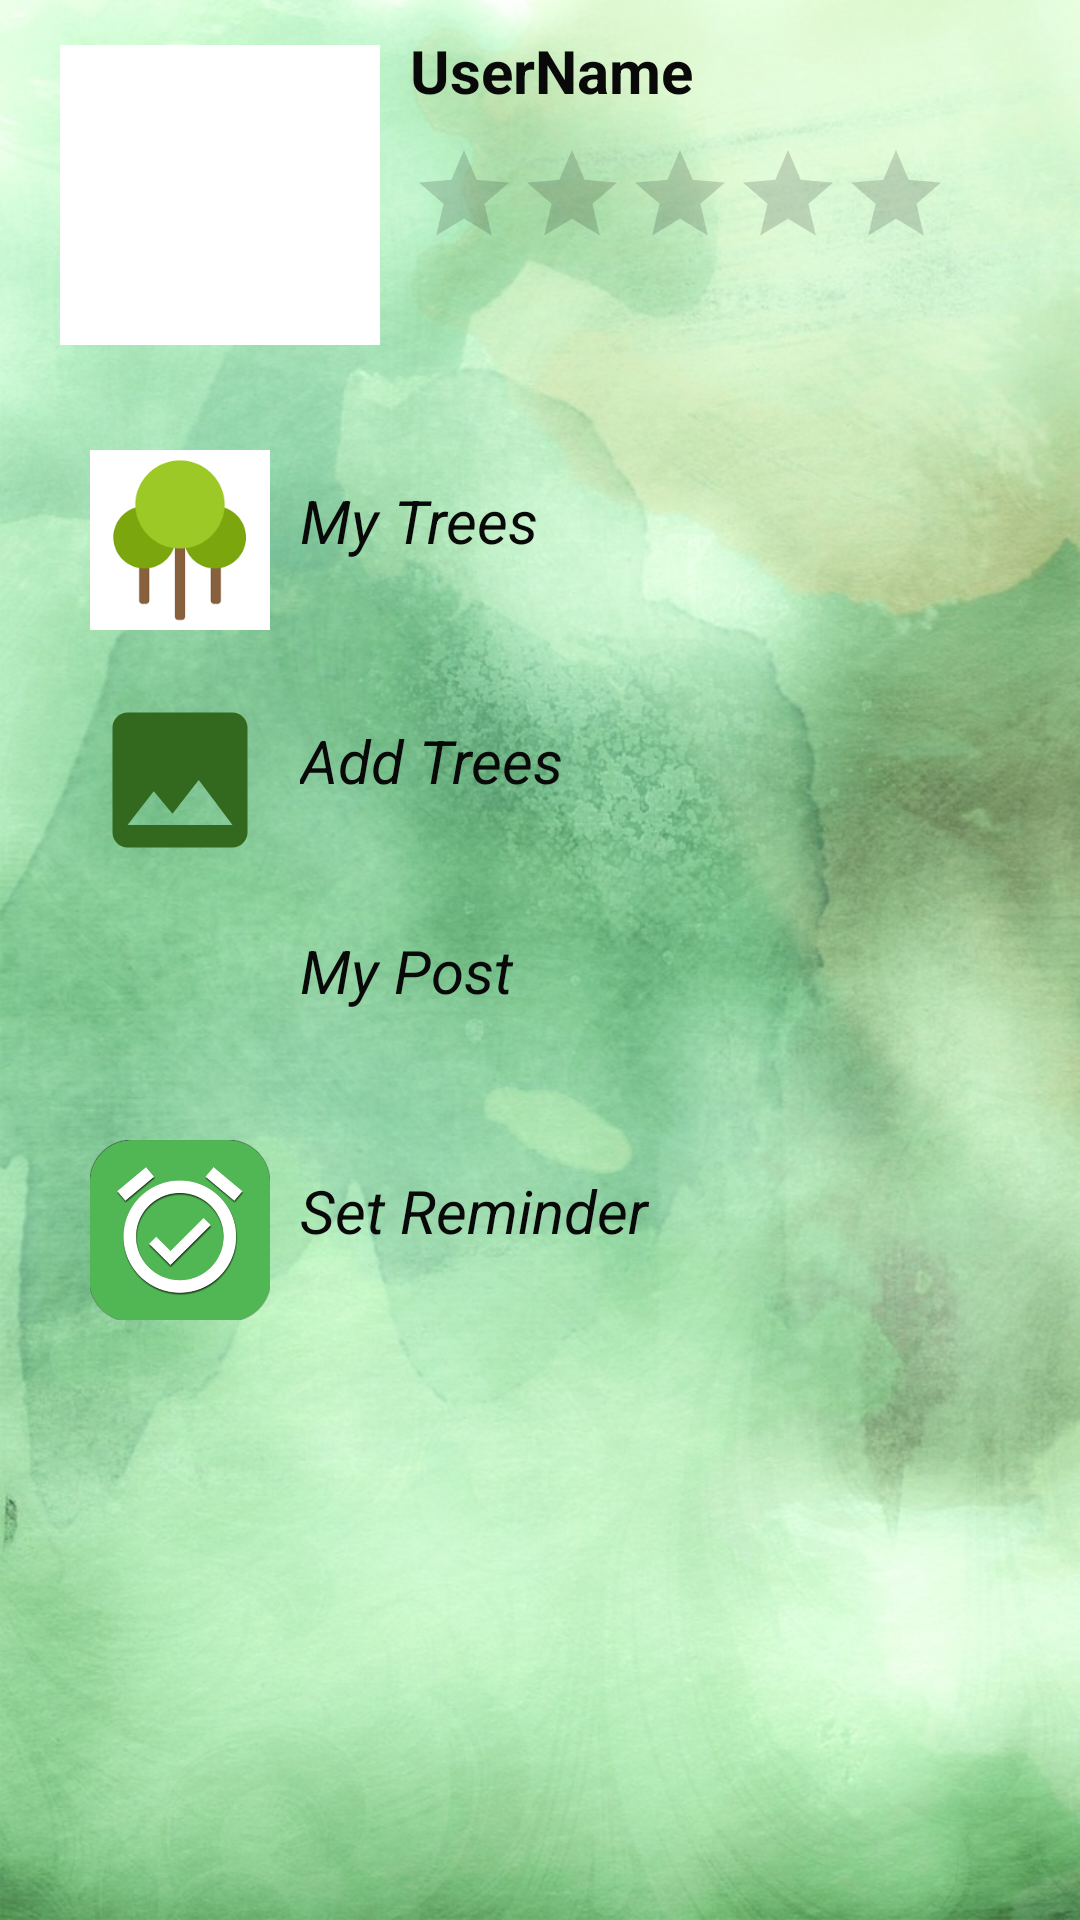

Named icons in this screenshot (1080 x 1920) and their bounding boxes, (x1, y1, x2, y2):
pickimg: (112, 712, 248, 848)
